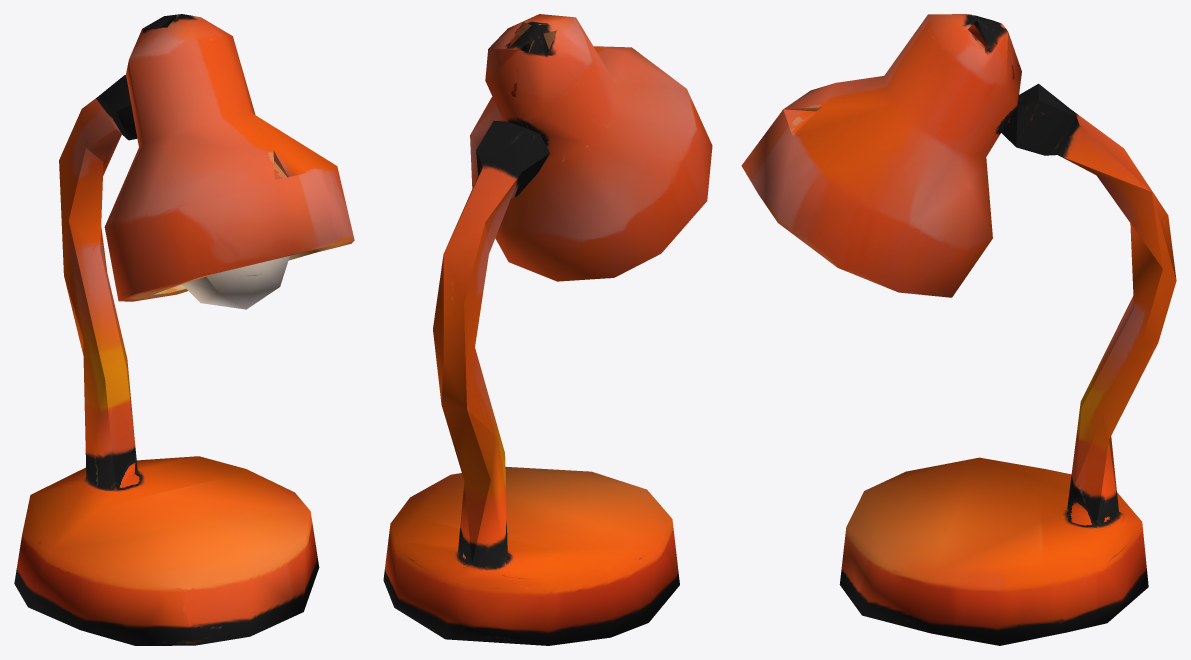
The model's file is orange-gooseneck-lamp.glb.
3 views of the same model, side by side, from view 1: azimuth 30°, elevation 25°; view 2: azimuth 150°, elevation 25°; view 3: azimuth 270°, elevation 25° (orthographic). The views are drawn at different scales.
Visible parts, largest first — view 1: geometry_0.001; view 2: geometry_0.001; view 3: geometry_0.001.
Boxes of the visible parts, box(x1,y1,x2,y2) form: geometry_0.001: box(14, 14, 354, 645); geometry_0.001: box(383, 14, 712, 645); geometry_0.001: box(741, 14, 1176, 645).
Bounding box in the file's own units: 0.4777 × 0.9989 × 0.6932.
1 material, 1 textured.
